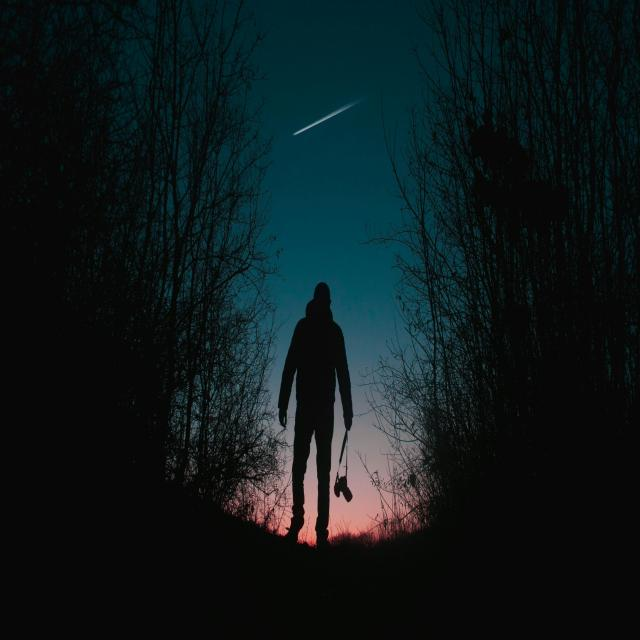stand: (285, 256, 341, 568)
